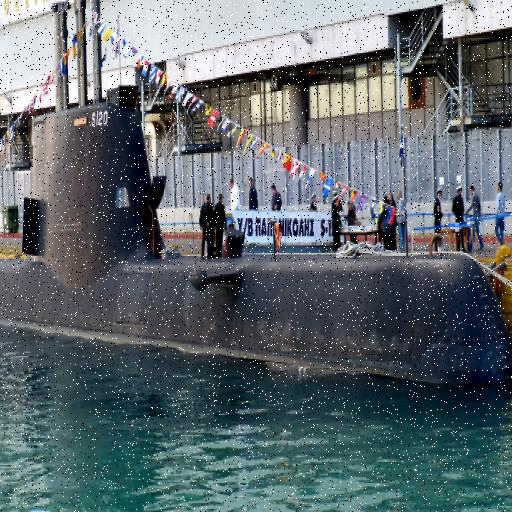submarine: (1, 1, 512, 386)
